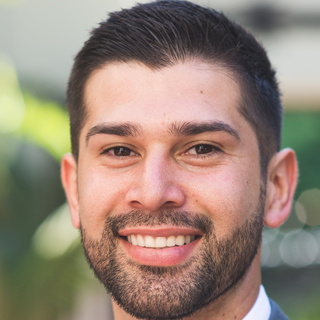eye: (174, 138, 230, 167), (93, 140, 146, 169)
